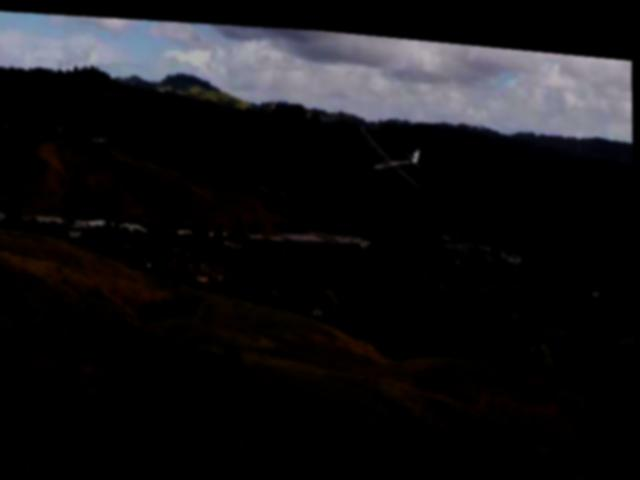iha: (357, 115, 424, 184)
